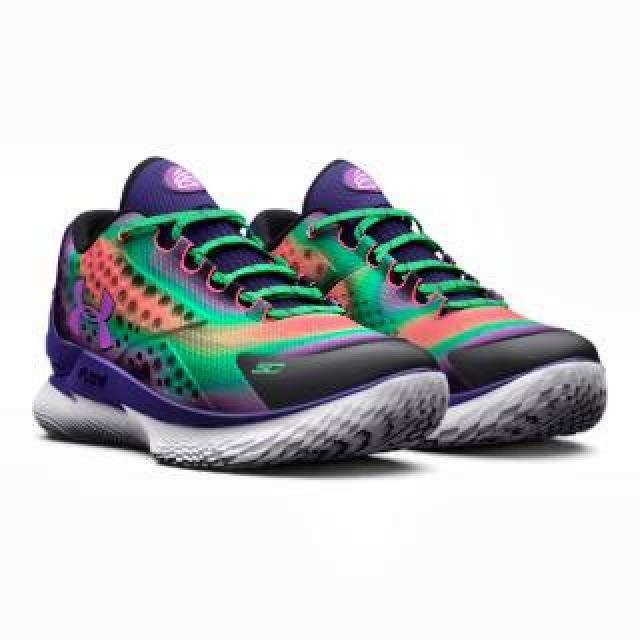shoes: (33, 156, 447, 468), (211, 160, 609, 446)
